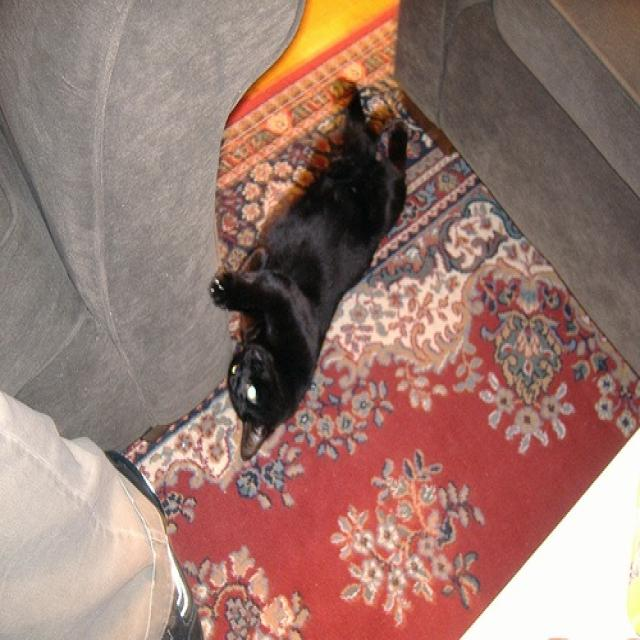cat: (209, 82, 408, 459)
sofa: (0, 2, 307, 452)
